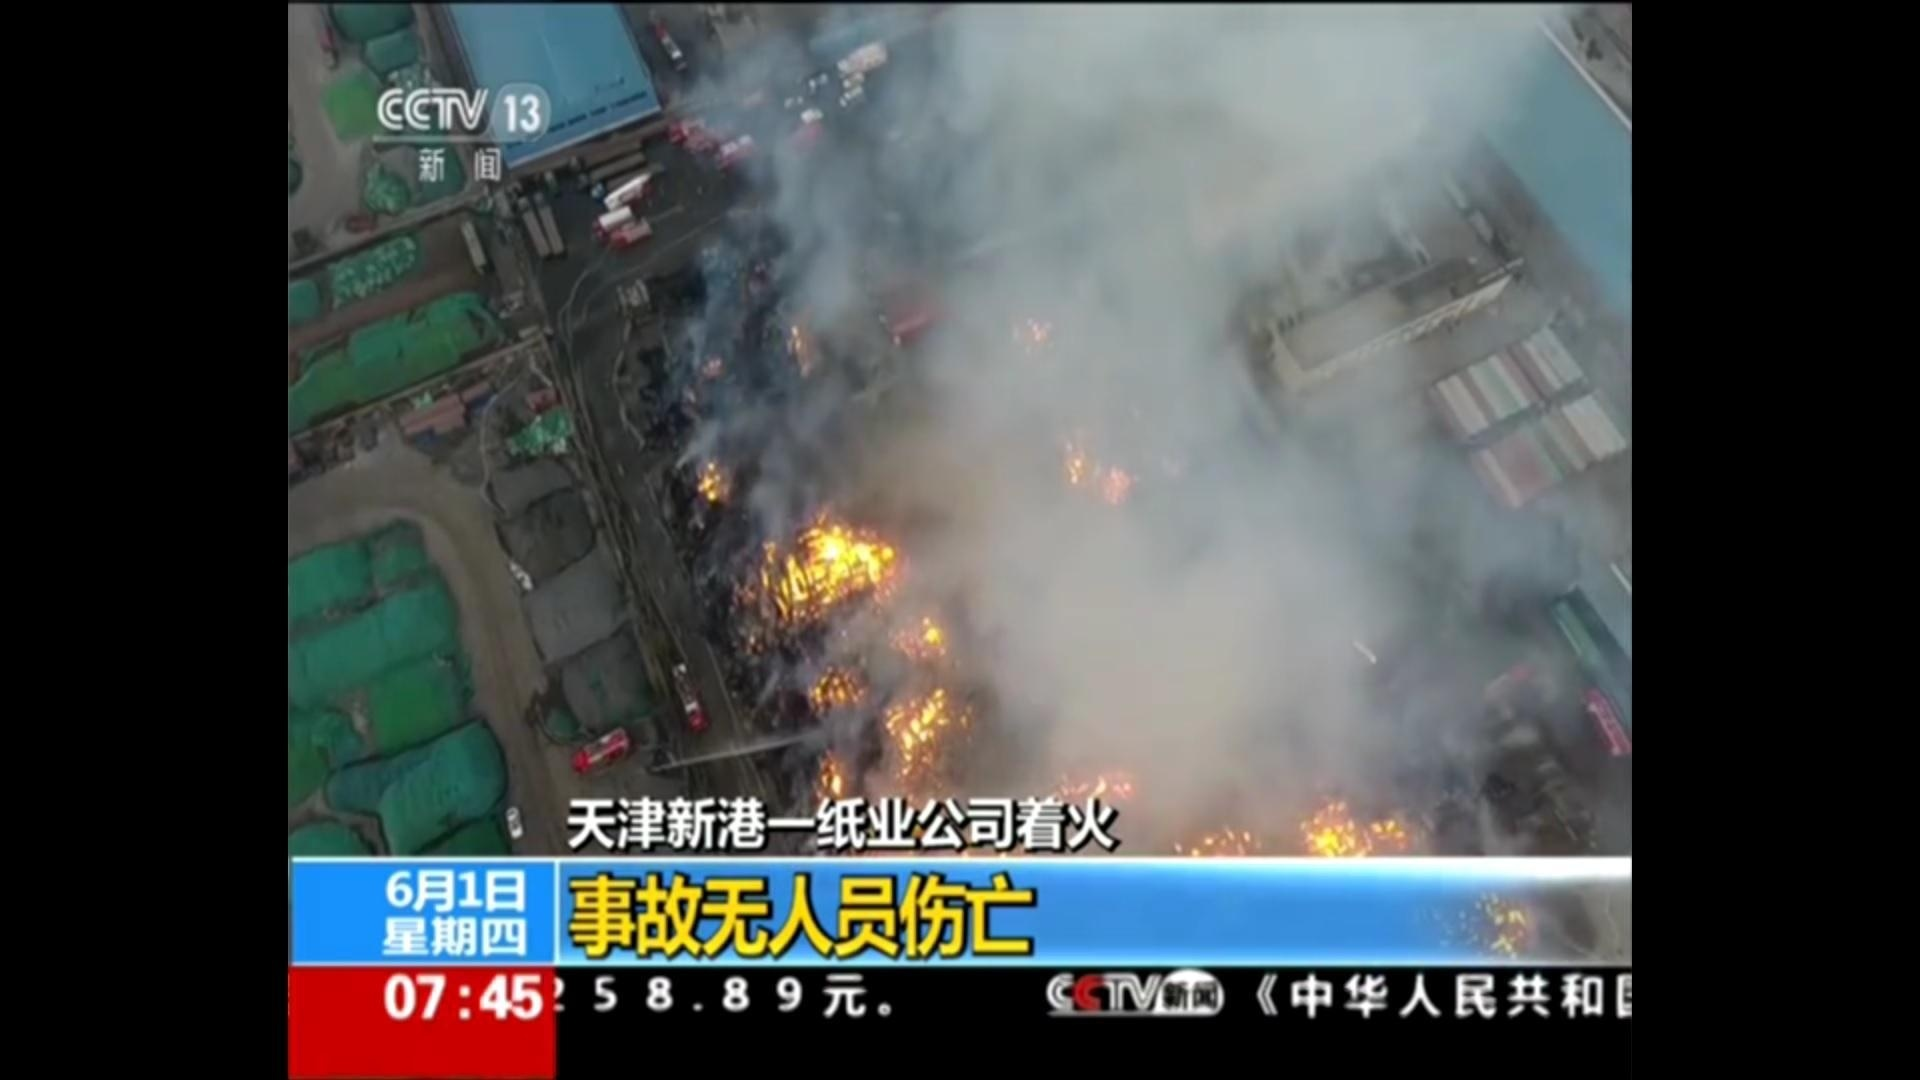fire: (808, 640, 965, 794), (738, 514, 905, 622), (1296, 796, 1415, 857), (1063, 442, 1134, 496), (1060, 764, 1138, 807), (806, 669, 858, 711), (695, 458, 728, 501), (913, 613, 944, 649)
